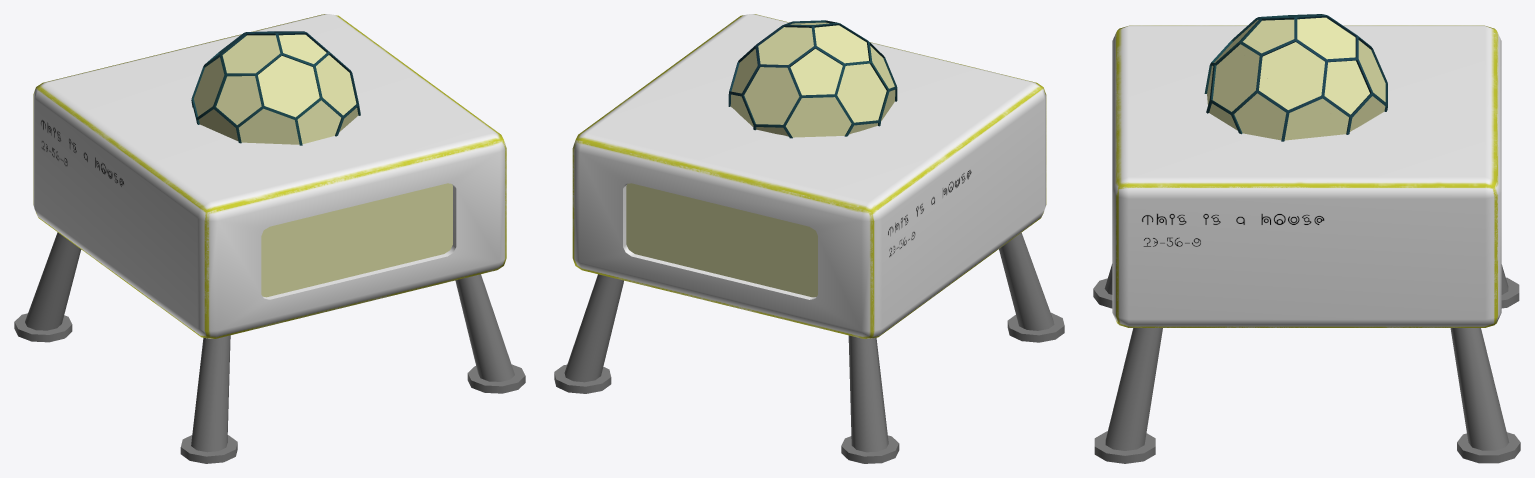
Rendered from House4.fbx.
3 renders of one model, left to right at view 1: azimuth 30°, elevation 25°; view 2: azimuth 150°, elevation 25°; view 3: azimuth 270°, elevation 25°, orthographic. The views are drawn at different scales.
Parts seen in each view (by area): view 1: House2; view 2: House2; view 3: House2.
Part boxes in pixels (x1,y1,x2,y2): House2: (14,14,525,463); House2: (554,14,1064,463); House2: (1093,14,1520,463).
Size of the model in its own units: 16.46 by 15.18 by 16.46.
Materials: 2 (2 with a texture image).
